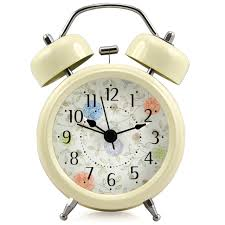alarm_clock: (27, 7, 191, 218)
